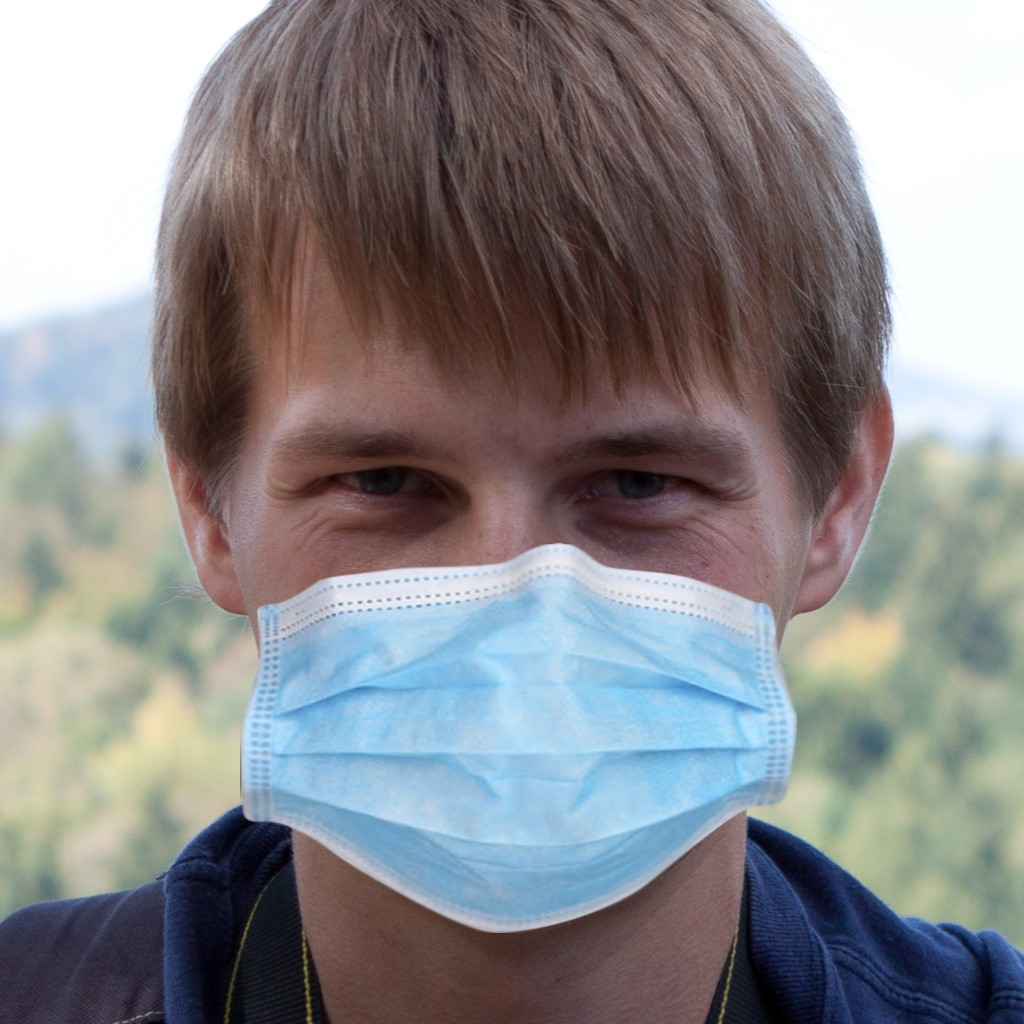con_mascara: (187, 75, 838, 924)
